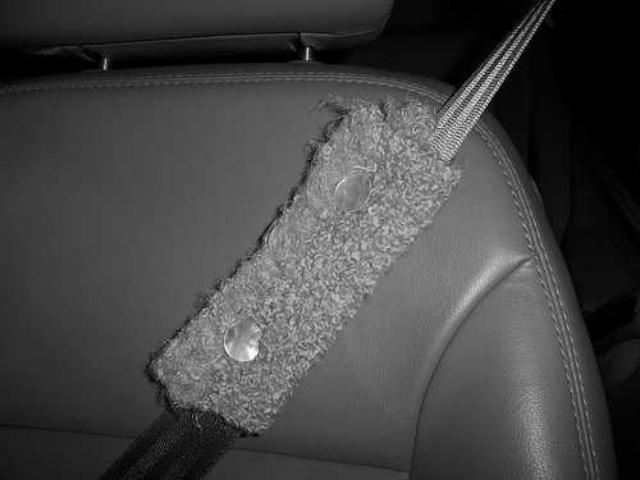Seatbelt: (93, 0, 559, 480)
